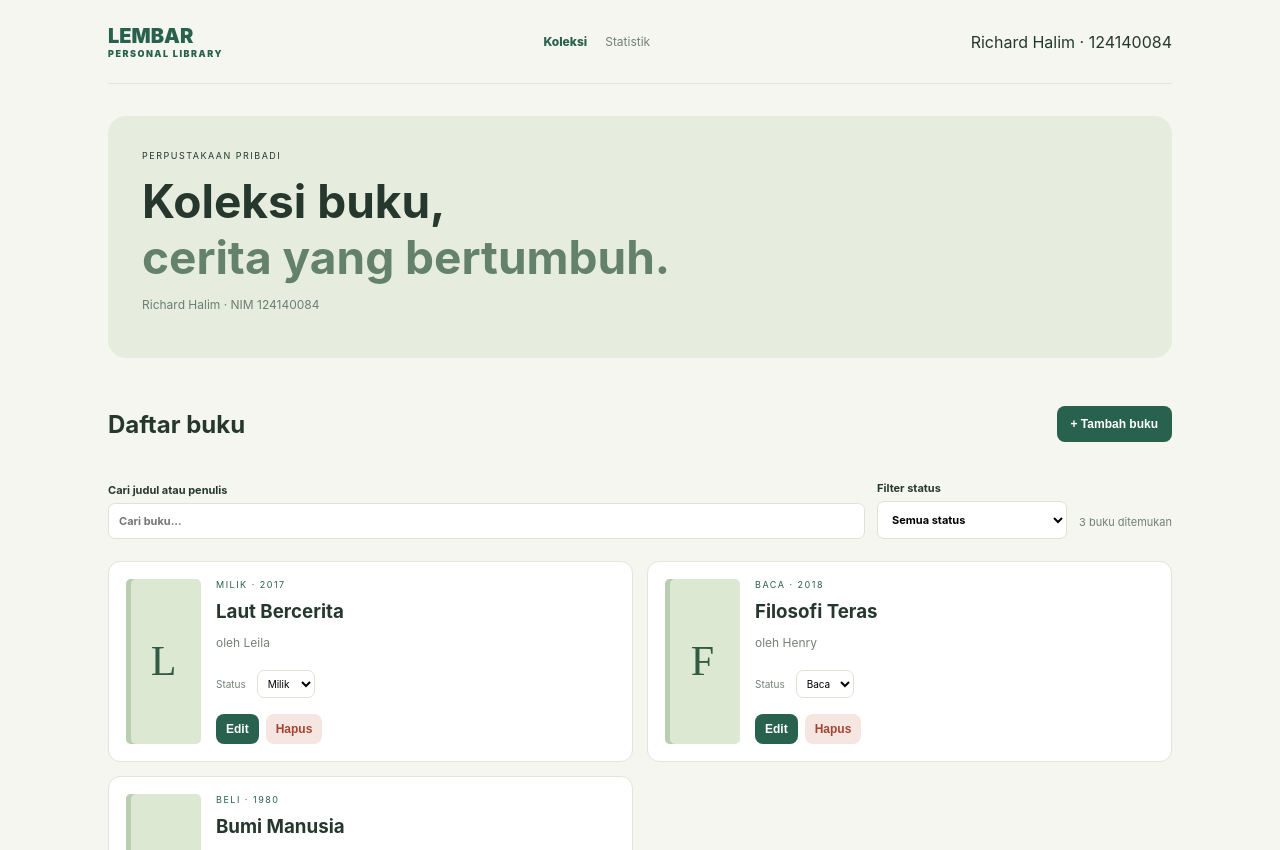
menambah buku dan menyimpannya
Click the button "+ Tambah buku" at coordinates (1114, 424), box [1056,406,1172,442]
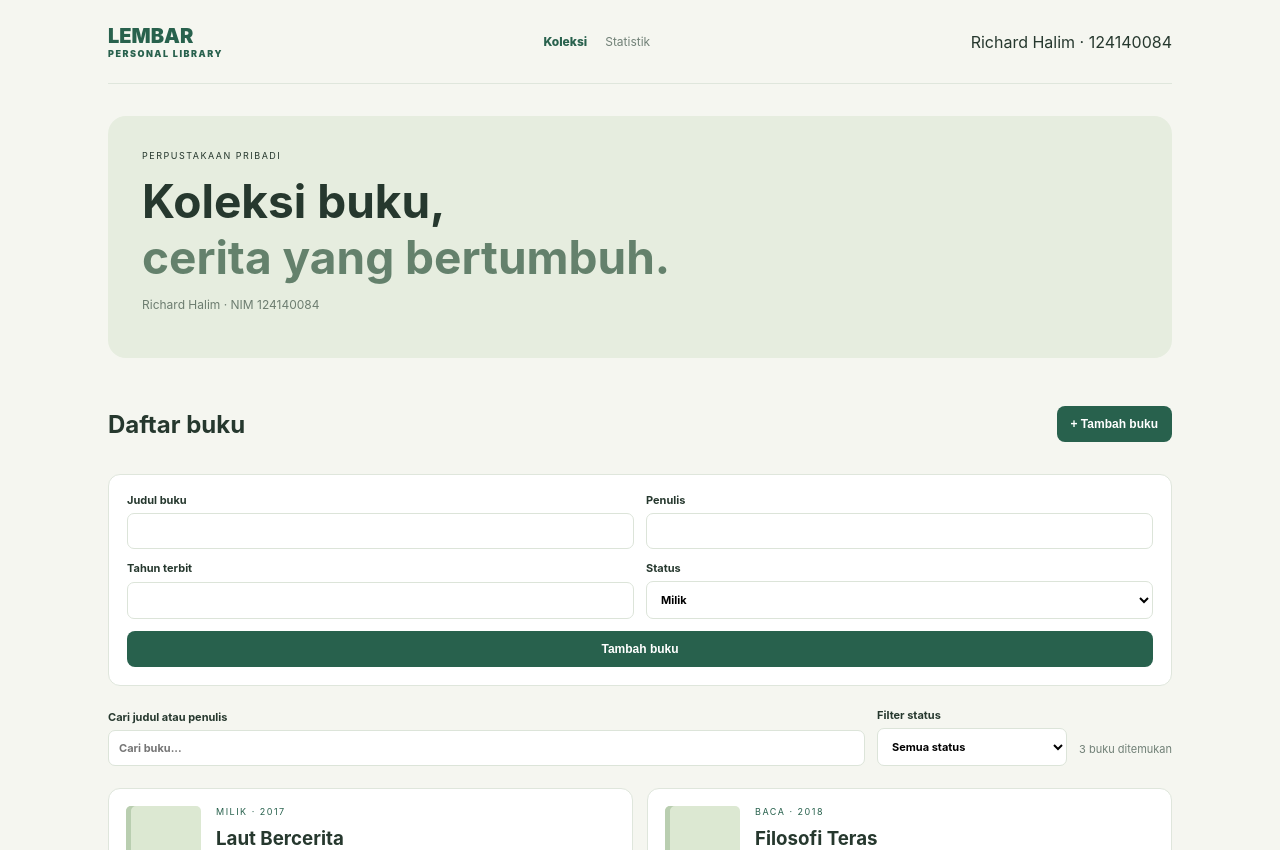
Type "Dune" into the field labelled "Judul buku" at coordinates (380, 531), box [127,513,634,549]
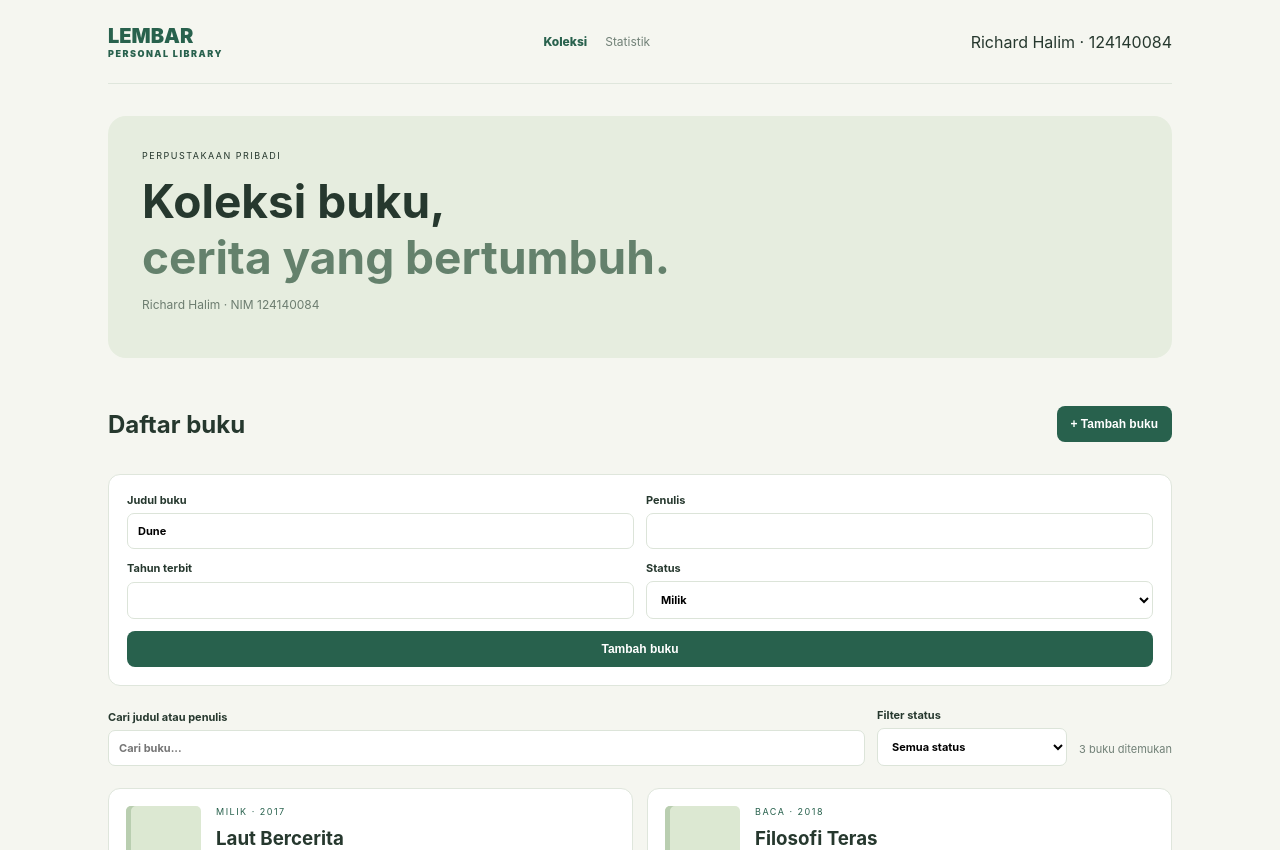
Type "Frank Herbert" into the field labelled "Penulis" at coordinates (900, 531), box [646,513,1153,549]
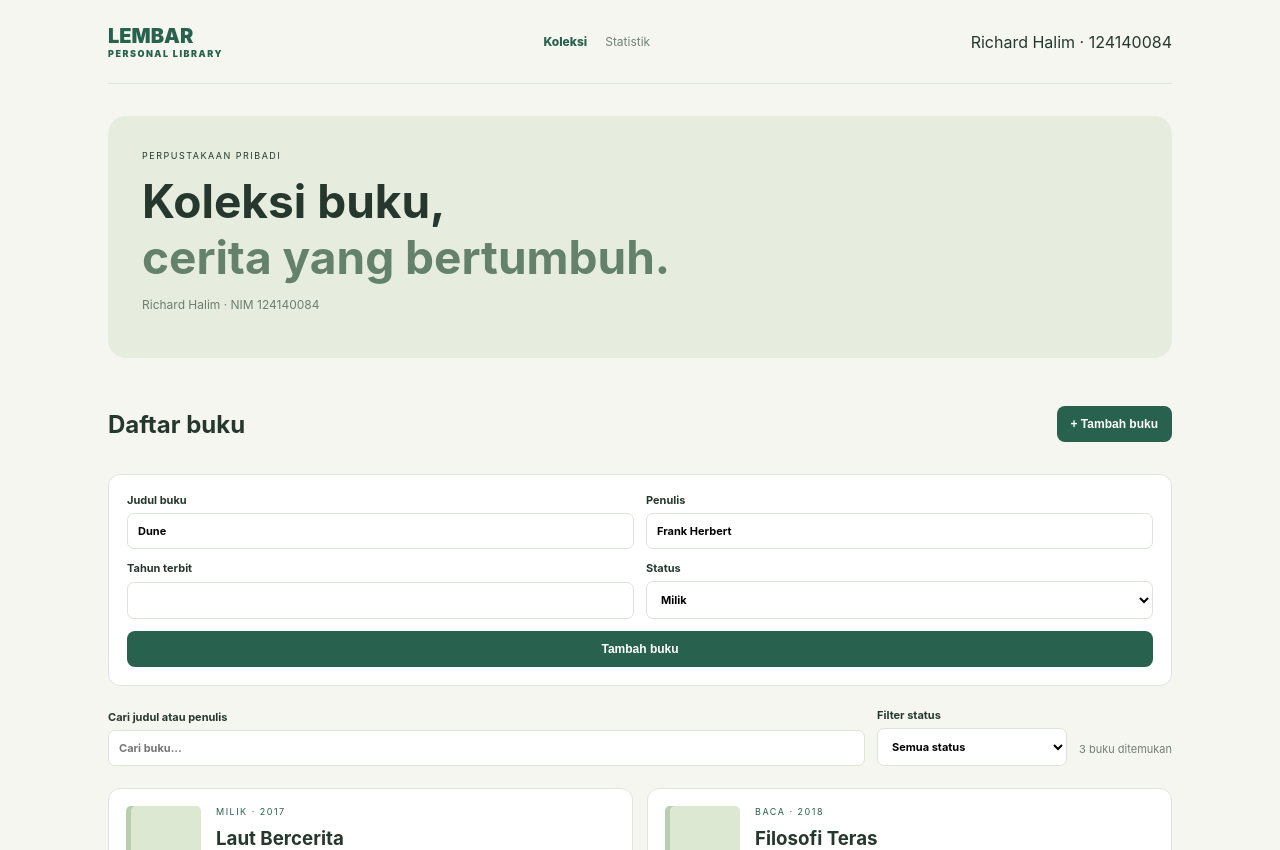
Click the button "Tambah buku" at coordinates (640, 649), box [127,631,1153,667]
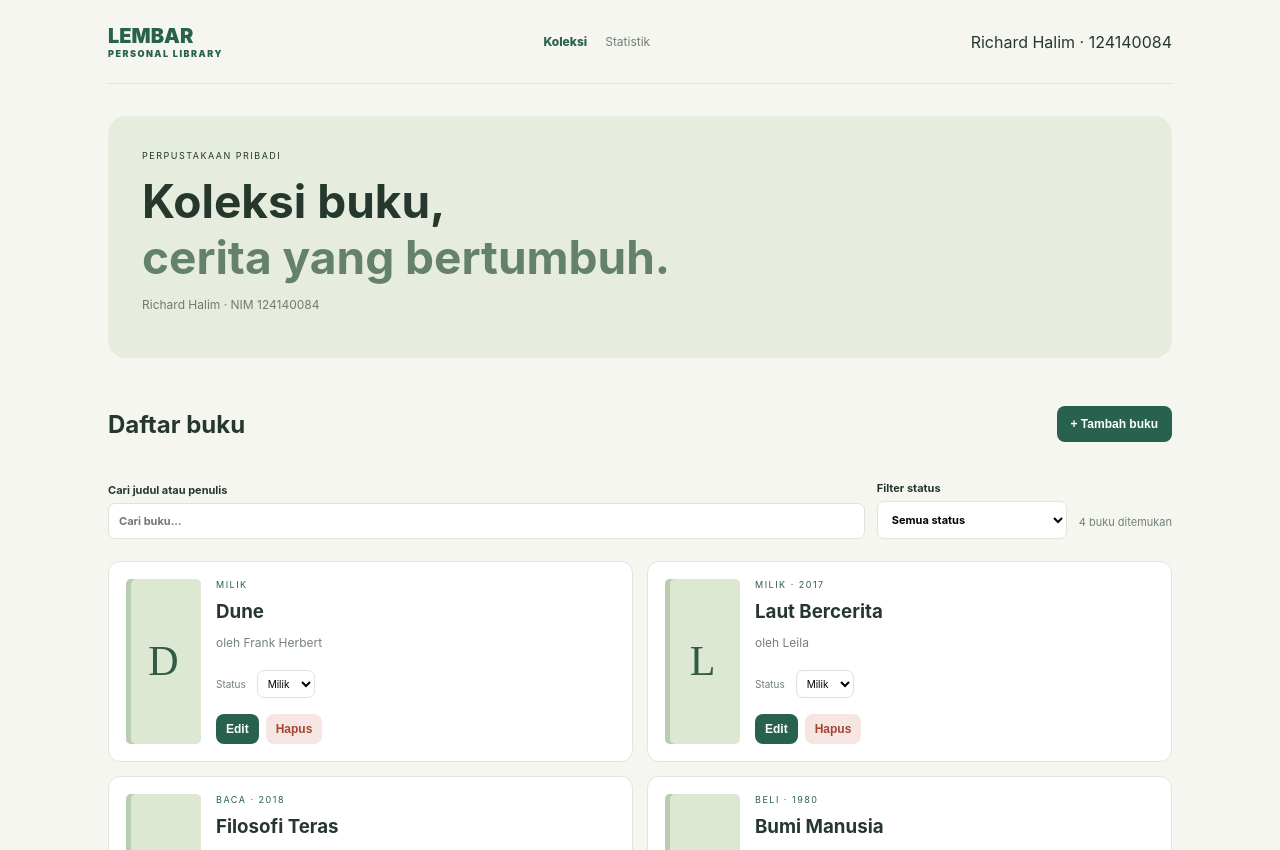
Check: the element "Dune" is shown, box [108,561,633,762]
